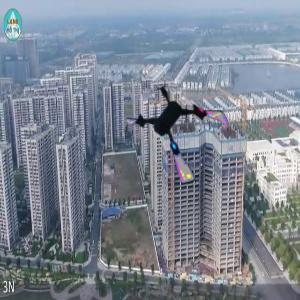drone: (128, 77, 236, 185)
